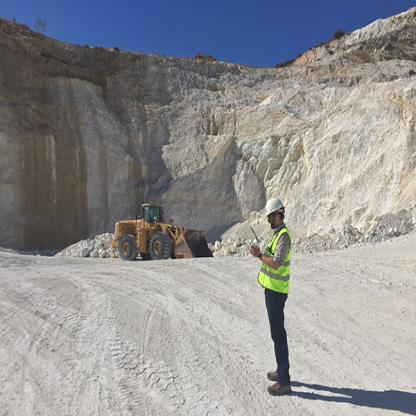bull_dozer/loader/grader: (96, 170, 226, 283)
person: (242, 174, 314, 408)
